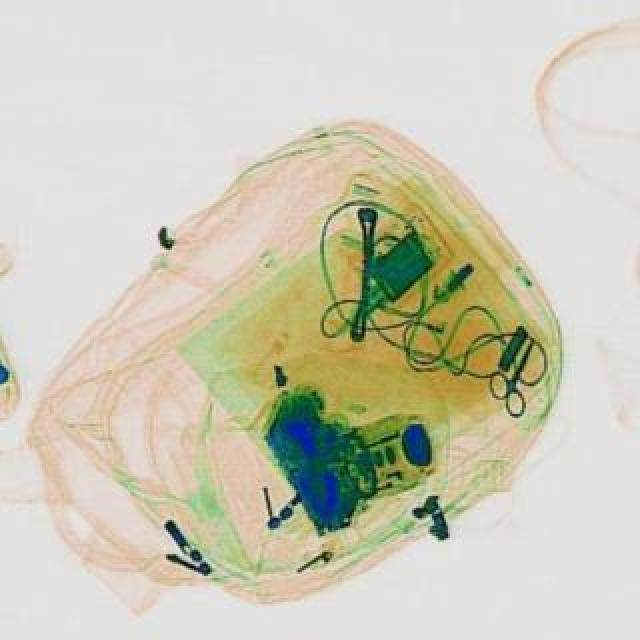pliers: (474, 334, 554, 424)
